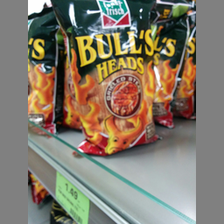chips: (53, 1, 161, 158), (29, 8, 60, 136)
